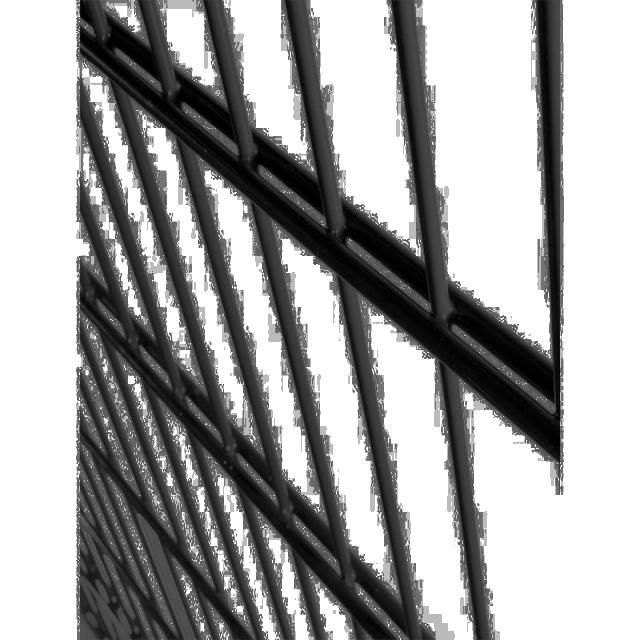fences: (87, 15, 520, 640)
